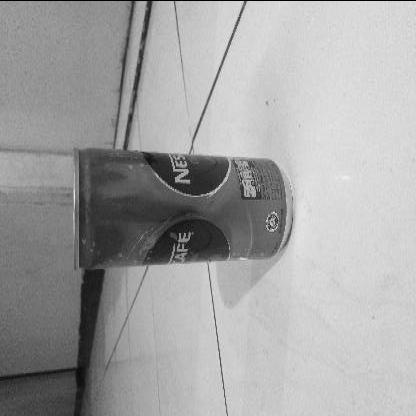alumunium_can: (70, 145, 296, 275)
